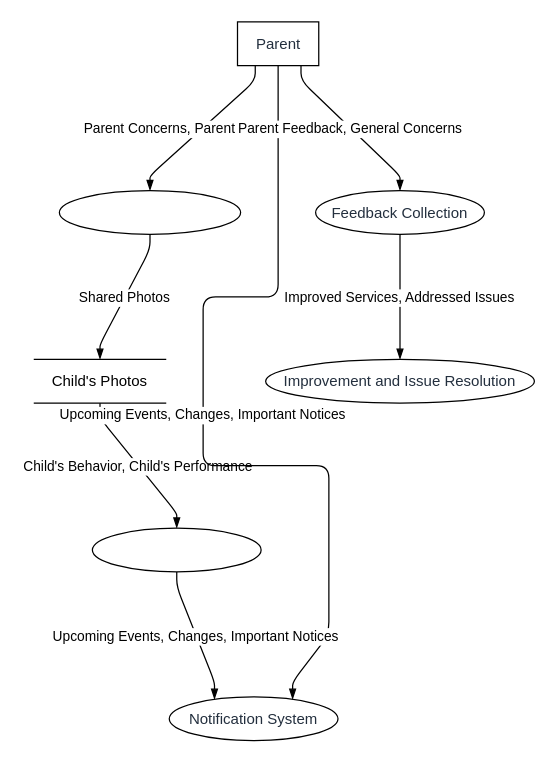
This 556x763 diagram has some shape labels left out. The centre of each missing label's shape, as x and y in pixels:
Bi-Weekly Feedback: (176,549)
Message to Counselor: (149,211)
